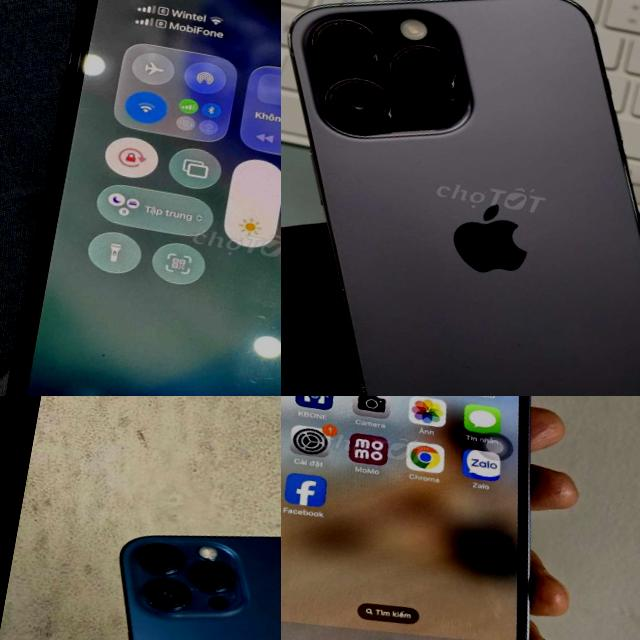gen_11: (0, 0, 281, 396)
gen_12_13: (120, 535, 281, 640)
gen_14: (281, 0, 640, 396), (281, 396, 602, 640)
